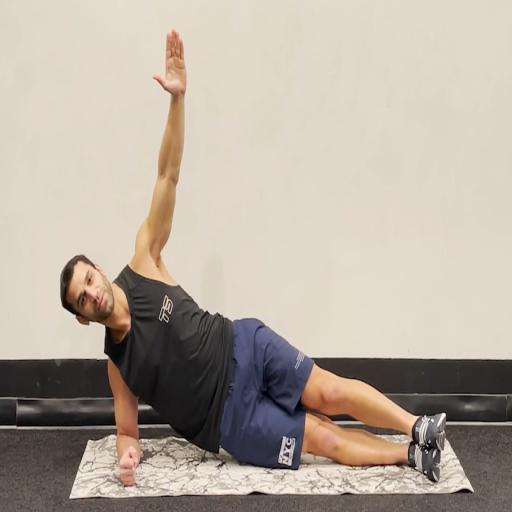Normal_Dips: (24, 10, 512, 509)
